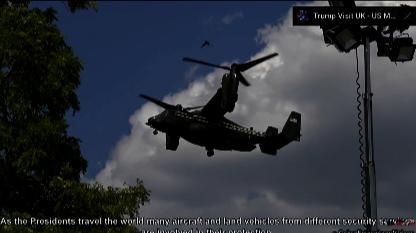Tornado: (138, 52, 302, 155)
